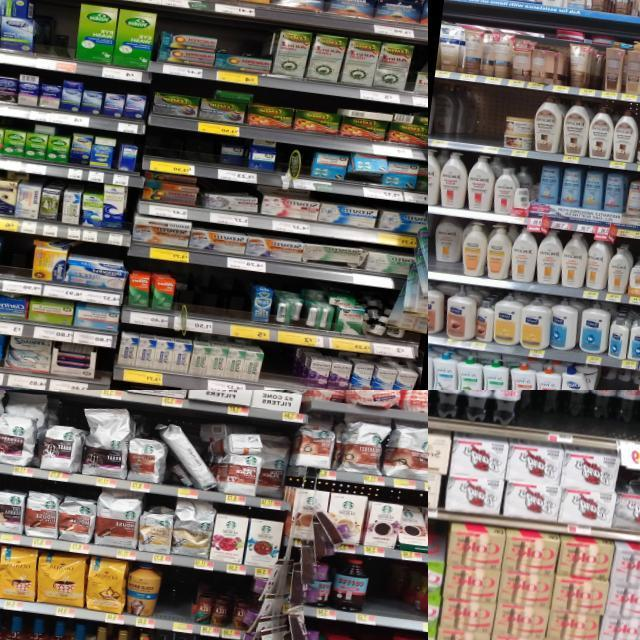Imprecise: (515, 392, 640, 438), (160, 425, 220, 492), (438, 82, 482, 145), (258, 432, 290, 502), (431, 216, 458, 272), (346, 152, 388, 186), (250, 138, 276, 172), (217, 142, 248, 166)
